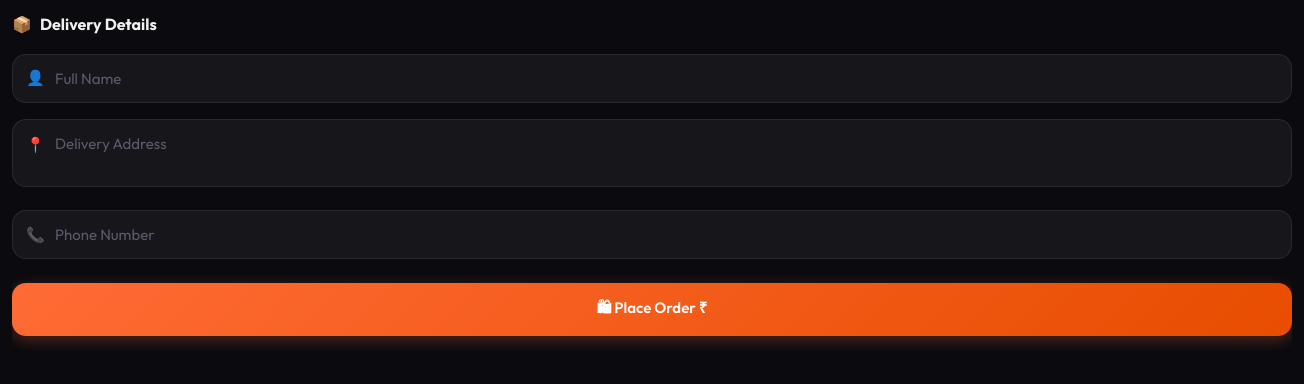
Test case: CheckoutForm Component › shows validation error for invalid phone number
This screenshot has width=1304, height=384.
Type "John Doe" into the field with placeholder "Full Name" at [652, 78], box [12,54,1292,103]
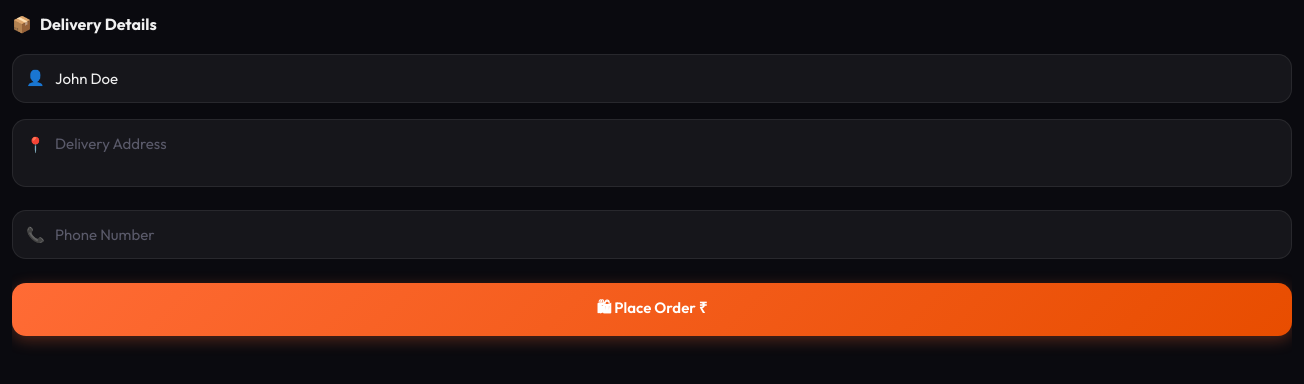
Type "123 Main St" into the text box with placeholder "Delivery Address" at [652, 153], box [12,119,1292,187]
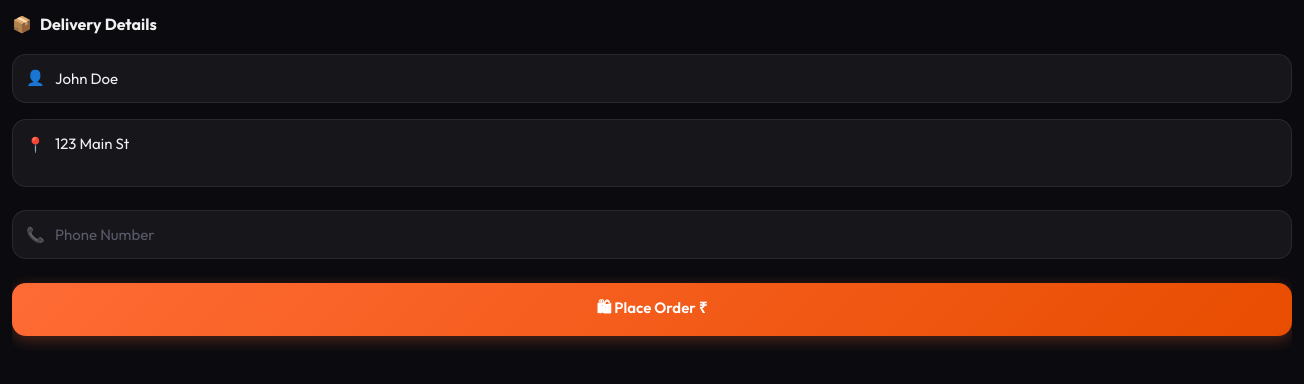
Type "123" into the field with placeholder "Phone Number" at [652, 235], box [12,210,1292,259]
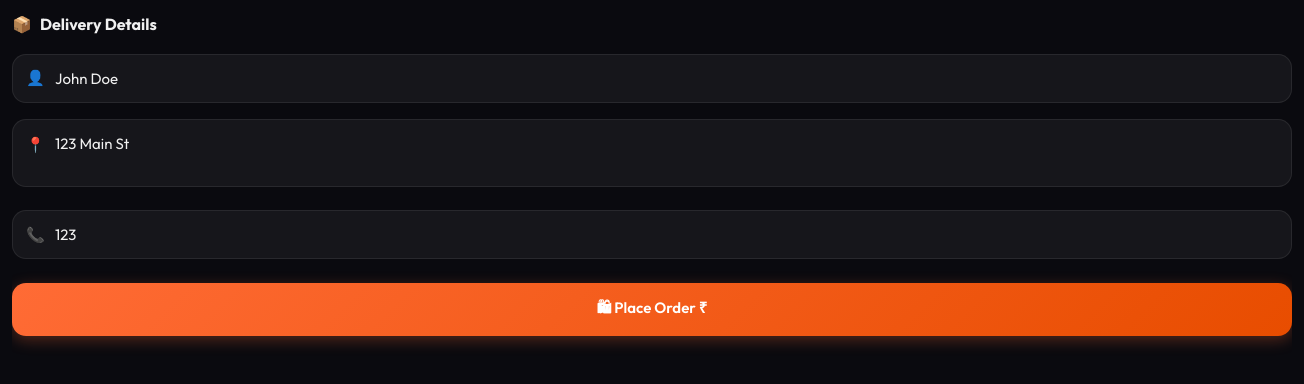
Submit the form from the button "🛍 Place Order ₹", box [12,283,1292,336]
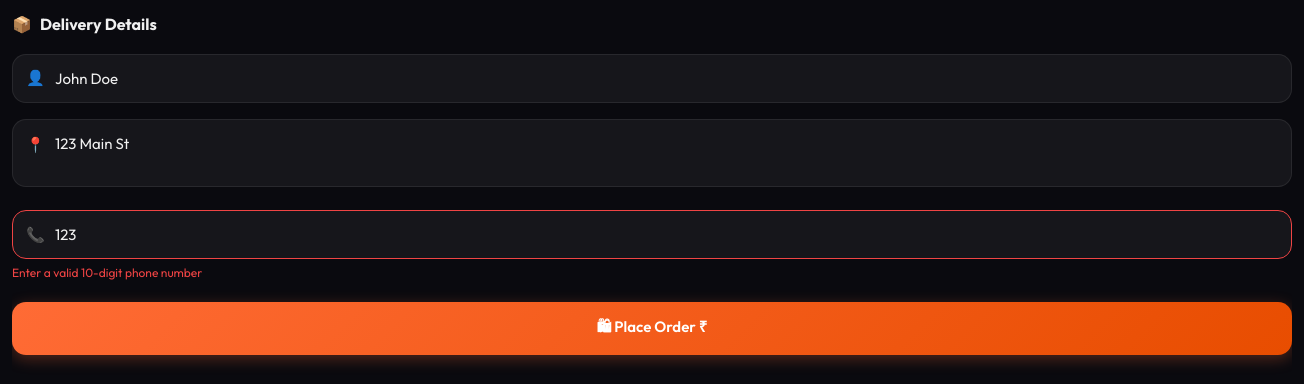
Check: the text "Enter a valid 10-digit phone number" is shown, box [12,265,202,280]
